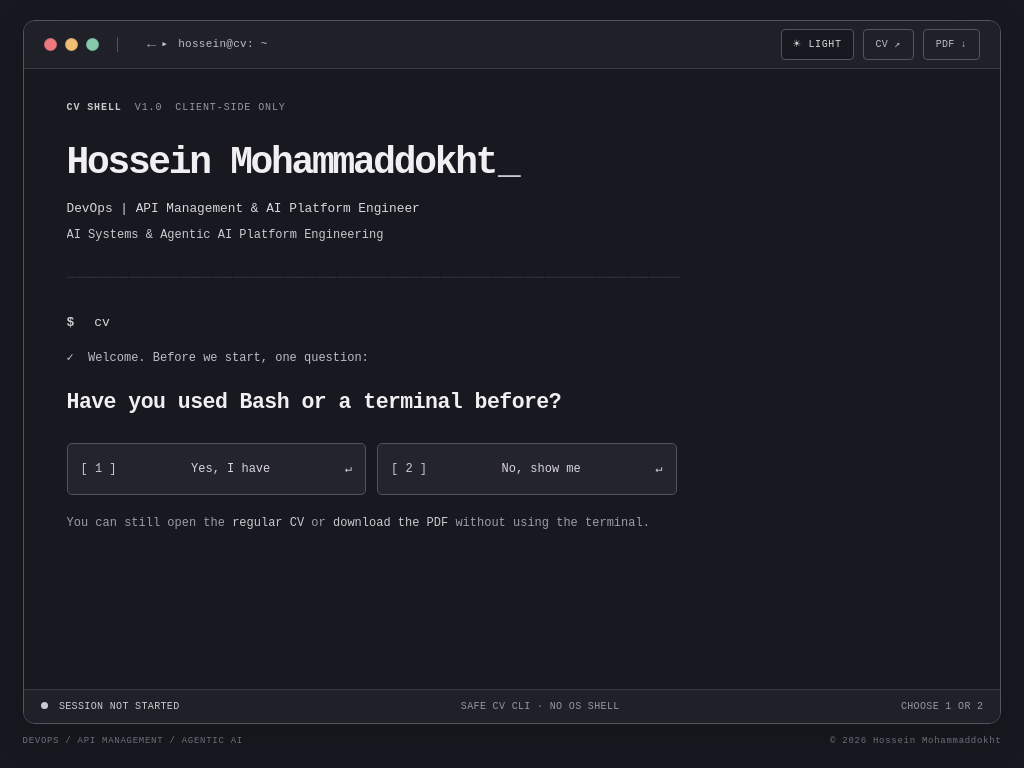
Terminal-first CV interaction › makes hidden extras discoverable through a small Help control, not the guided menu
Click the button "[ 1 ] Yes, I have ↵" at (216, 469), box [66, 443, 366, 495]
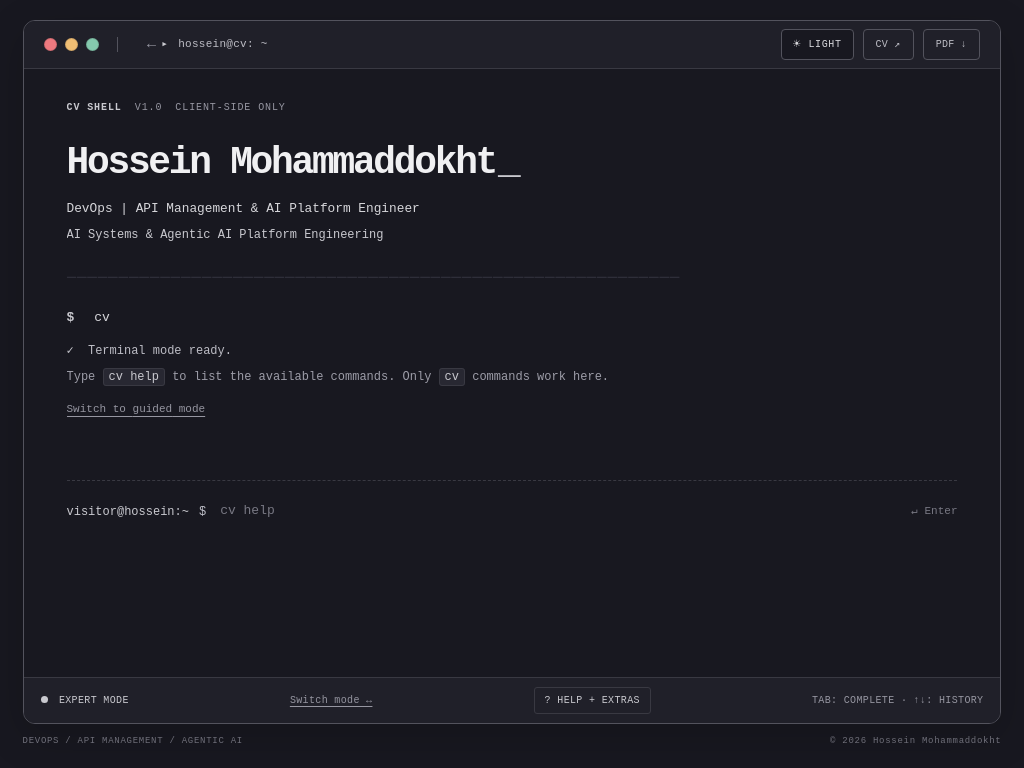
Click the button "? HELP + EXTRAS" at (592, 700), box [534, 687, 651, 714]
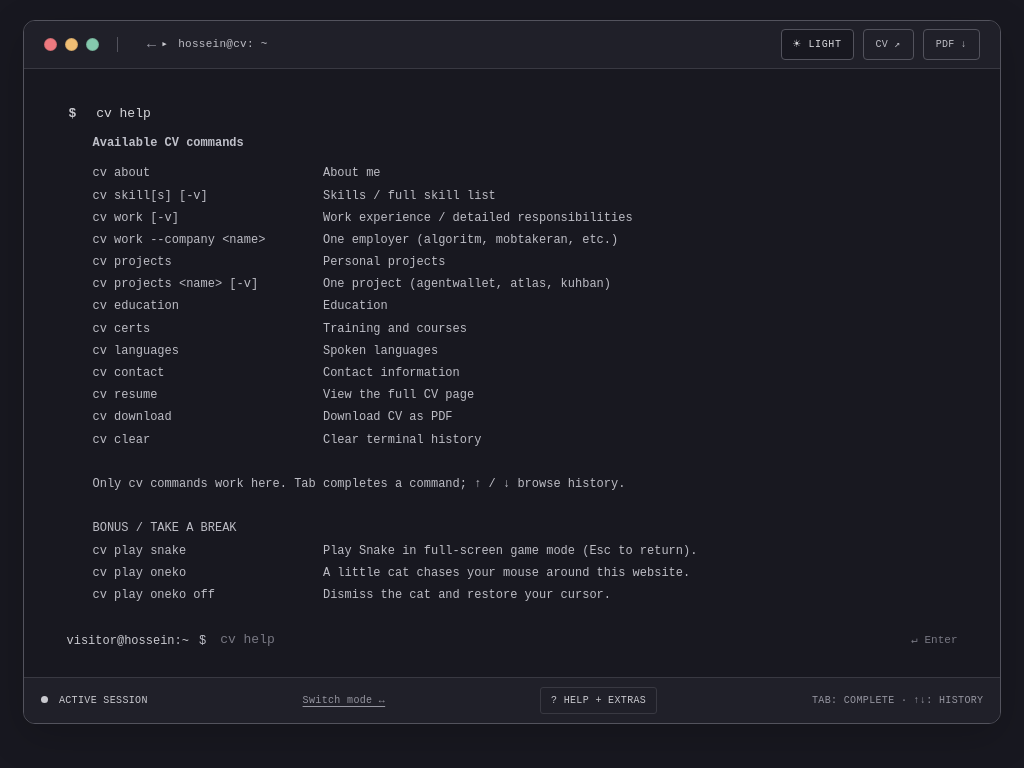
expect the text "cv play snake" is shown: met, box [92, 544, 697, 558]
